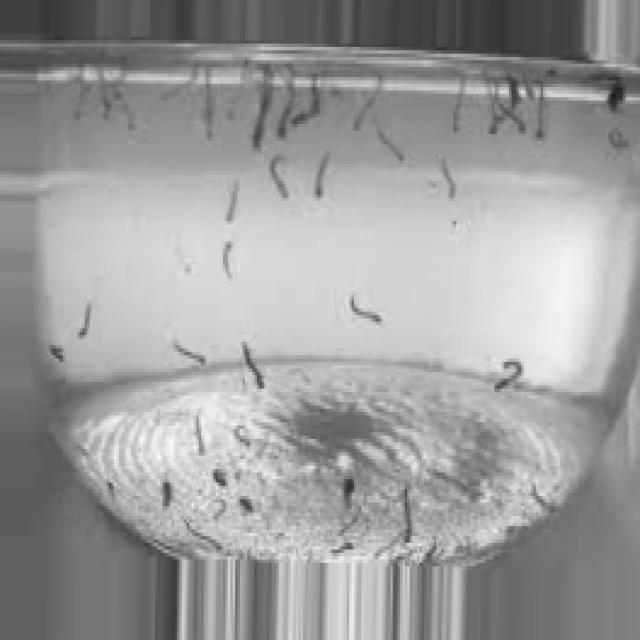larvas: (353, 78, 384, 132), (252, 70, 270, 151), (160, 66, 196, 106), (187, 519, 220, 558), (596, 71, 625, 113), (299, 75, 322, 124), (378, 125, 407, 162), (203, 68, 216, 143), (451, 75, 468, 132), (244, 341, 264, 388), (74, 79, 97, 118), (271, 156, 290, 200), (352, 294, 379, 324), (340, 501, 361, 539), (101, 69, 122, 107), (174, 339, 203, 366), (375, 526, 399, 558), (279, 79, 292, 138), (315, 154, 332, 199), (499, 360, 522, 392), (225, 182, 242, 224), (441, 156, 458, 195), (536, 78, 547, 138), (538, 484, 557, 518), (402, 490, 414, 542), (118, 98, 135, 128), (78, 304, 92, 340), (208, 500, 228, 525), (426, 538, 446, 563), (222, 240, 233, 282), (195, 414, 205, 460), (235, 424, 252, 450), (344, 474, 356, 506), (490, 78, 496, 134), (510, 81, 520, 111), (49, 347, 69, 362), (611, 130, 629, 146), (214, 468, 227, 487), (236, 495, 253, 509), (164, 481, 172, 509), (525, 73, 534, 96), (334, 544, 352, 554)
